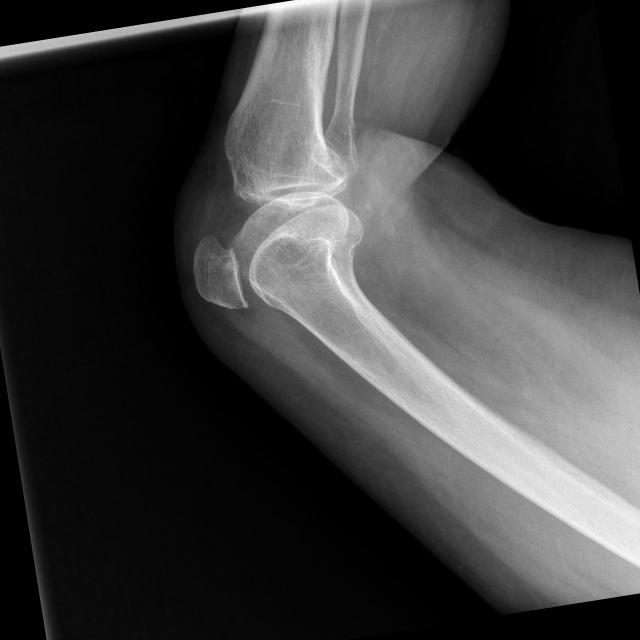Knee: (172, 122, 402, 324)
